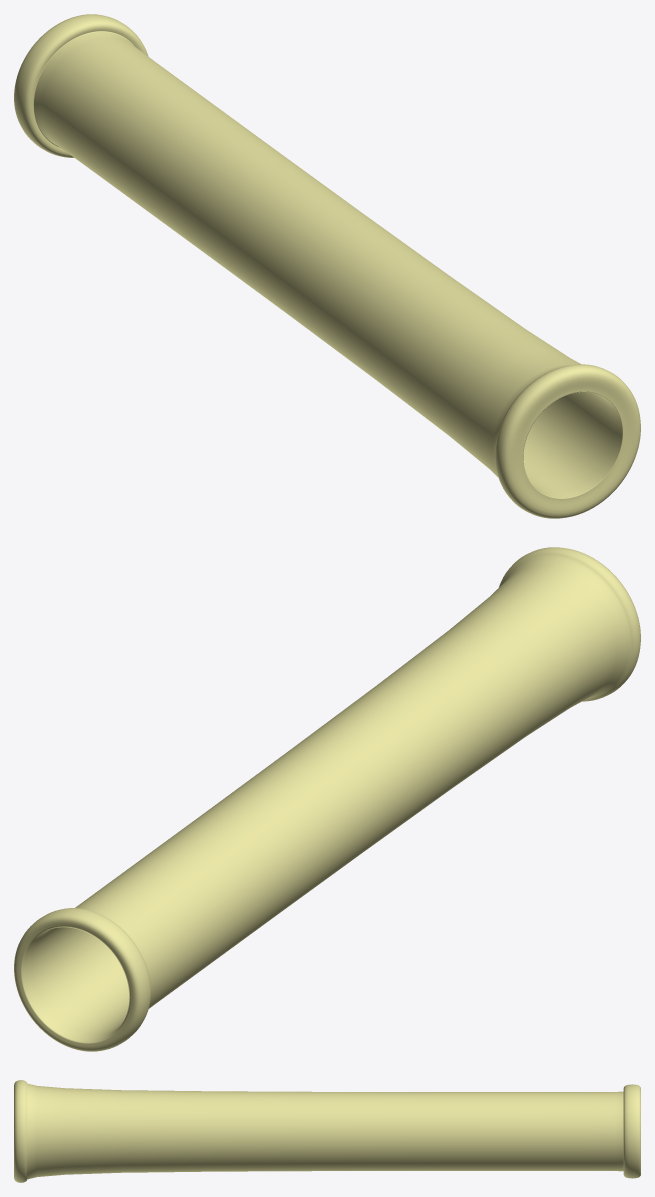
The model's file is Straight_pipe_final.fbx.
3 renders of one model, top to bottom at view 1: azimuth 30°, elevation 25°; view 2: azimuth 150°, elevation 25°; view 3: azimuth 270°, elevation 25°, orthographic. The views are drawn at different scales.
Parts seen in each view (by area): view 1: Pipe; view 2: Pipe; view 3: Pipe.
Boxes of the visible parts, x1,y1,x2,y2 form: Pipe: (14,14,640,518); Pipe: (14,547,640,1051); Pipe: (14,1080,640,1182).
Bounding box in the file's own units: 2.83 × 2.83 × 17.24.
